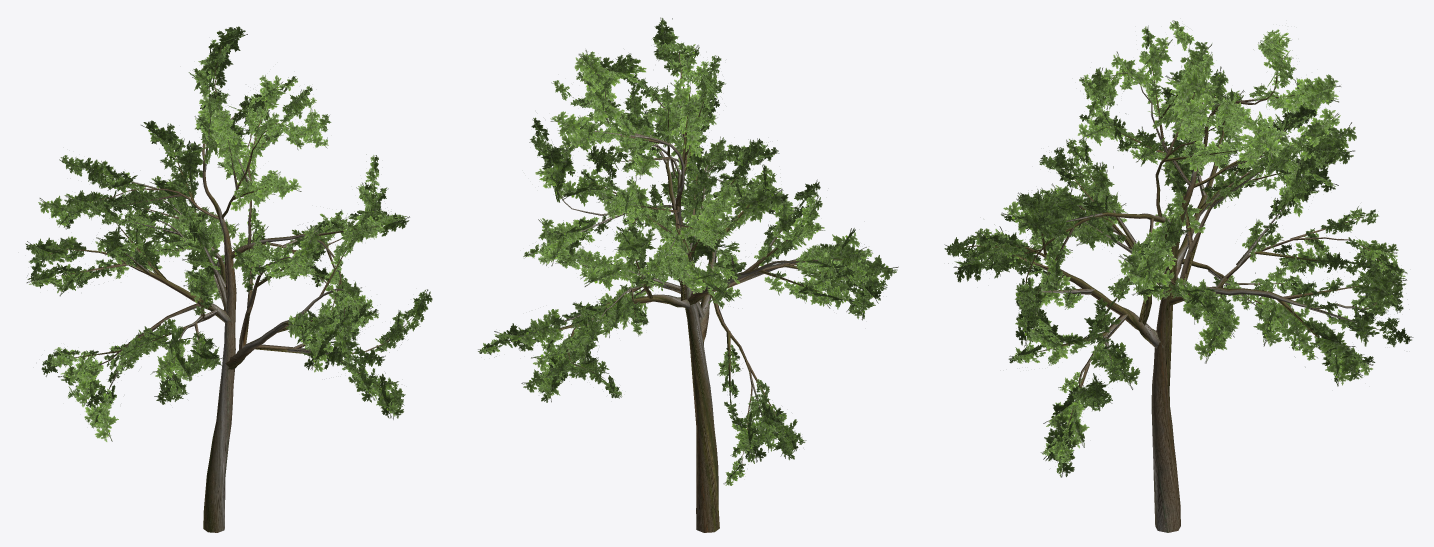
Rendered from ez-oak-small.glb.
3 renders of one model, left to right at view 1: azimuth 30°, elevation 25°; view 2: azimuth 150°, elevation 25°; view 3: azimuth 270°, elevation 25°, orthographic. The views are drawn at different scales.
Parts seen in each view (by area): view 1: near, mid; view 2: near, mid; view 3: near, mid.
Boxes of the visible parts, left/top/right/bottom form: near: left=27, top=30, right=425, bottom=532; mid: left=25, top=26, right=432, bottom=531; near: left=478, top=17, right=885, bottom=532; mid: left=494, top=23, right=898, bottom=532; near: left=951, top=20, right=1413, bottom=532; mid: left=944, top=29, right=1407, bottom=530.
Bounding box in the file's own units: 5.99 × 7.14 × 5.83.
Materials: 1 (1 with a texture image).
